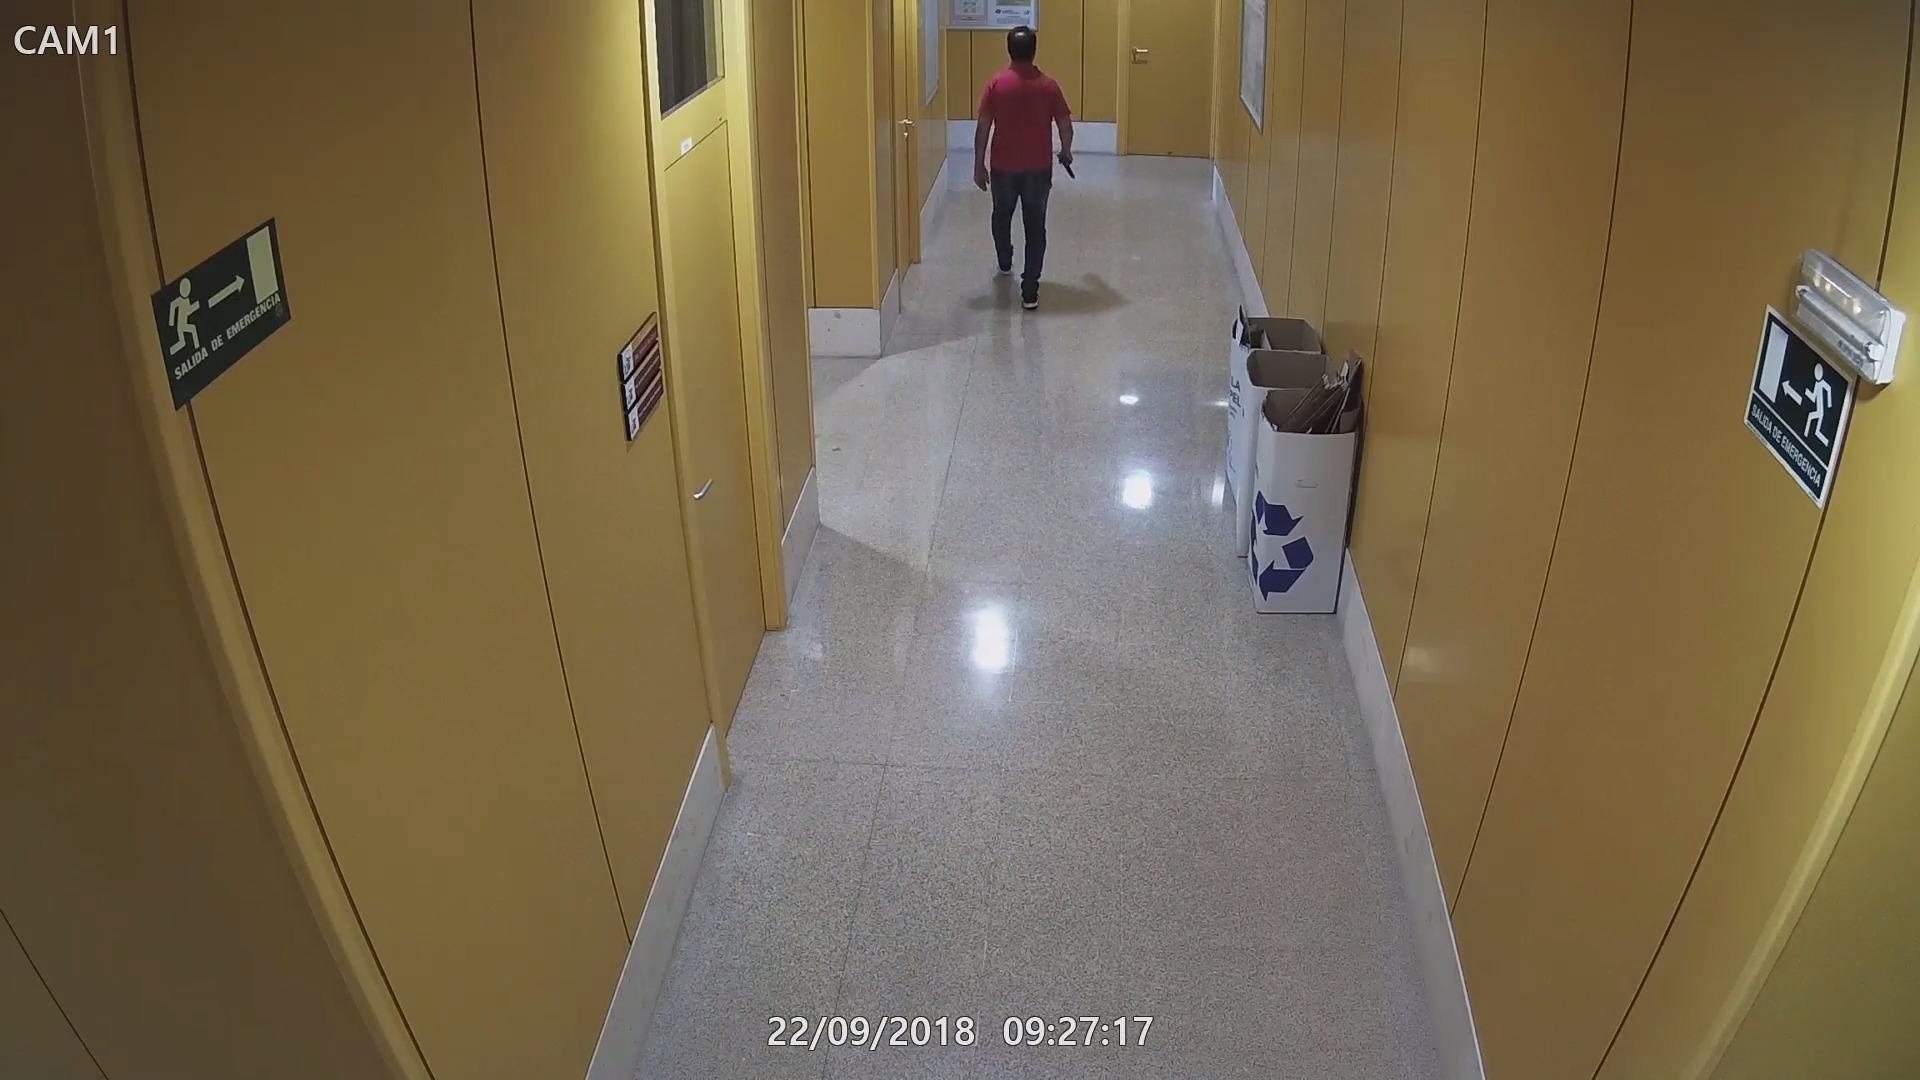Handgun: (1052, 148, 1079, 178)
